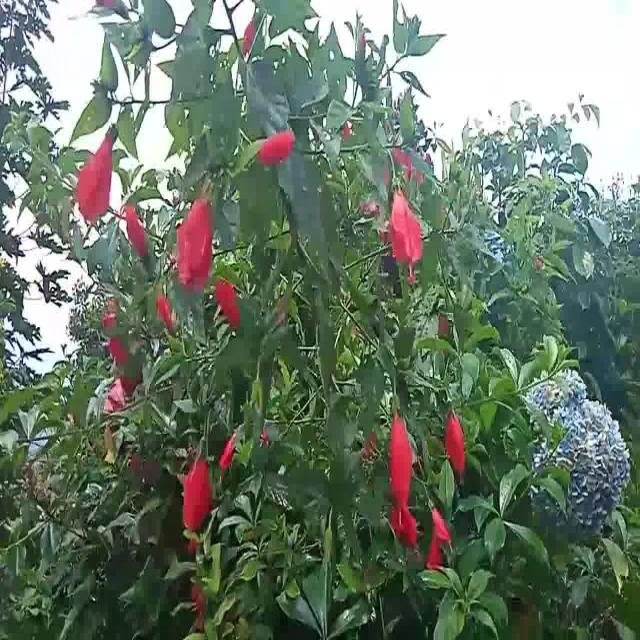Flower: (75, 122, 116, 218), (390, 173, 427, 276), (386, 391, 418, 508), (177, 191, 213, 294), (182, 436, 208, 541), (424, 501, 456, 574), (443, 400, 472, 479), (123, 207, 159, 264), (261, 125, 299, 176), (213, 276, 243, 329)
